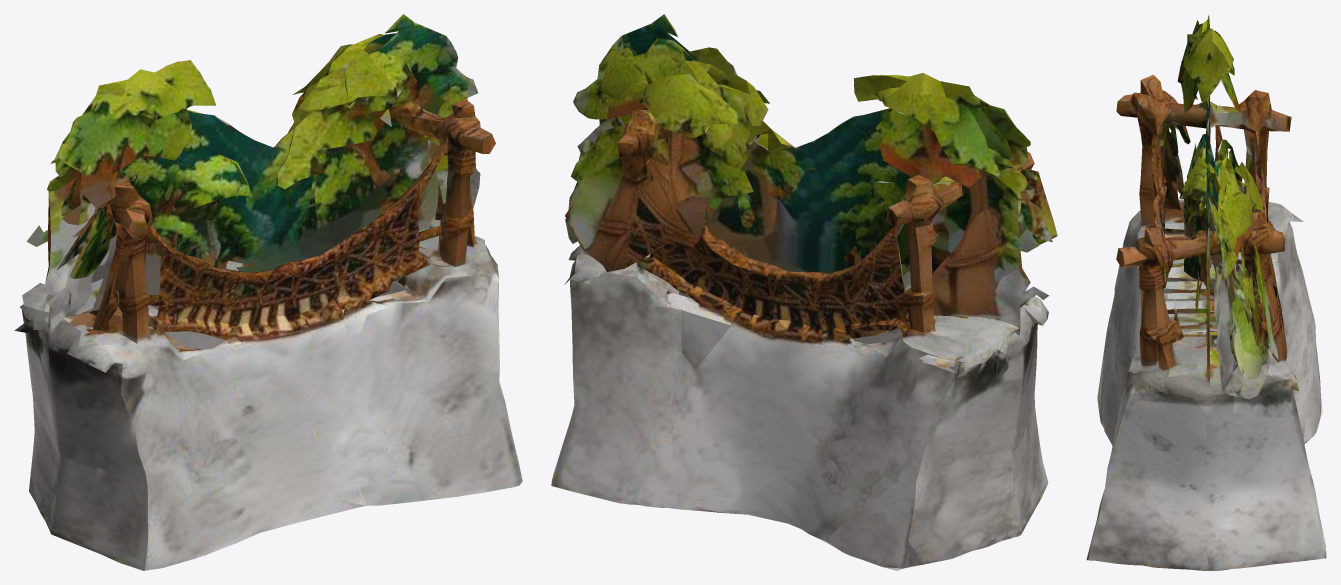
File: iya-kazurabashi.glb
The picture shows the model from 3 angles, left to right: view 1: azimuth 30°, elevation 25°; view 2: azimuth 150°, elevation 25°; view 3: azimuth 270°, elevation 25°; orthographic projection. The views are drawn at different scales.
Parts seen in each view (by area): view 1: logan-textured.obj; view 2: logan-textured.obj; view 3: logan-textured.obj.
Part boxes in pixels (<box>): logan-textured.obj: <box>14,14,522,570</box>; logan-textured.obj: <box>551,14,1057,570</box>; logan-textured.obj: <box>1086,15,1326,570</box>.
Bounding box in the file's own units: 1 × 0.9252 × 0.5058.
Materials: 1 (1 with a texture image).
